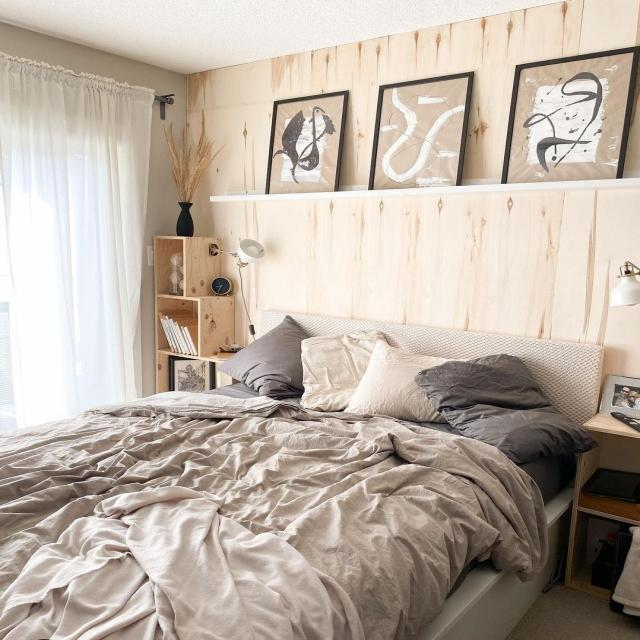bed: (0, 311, 572, 639)
